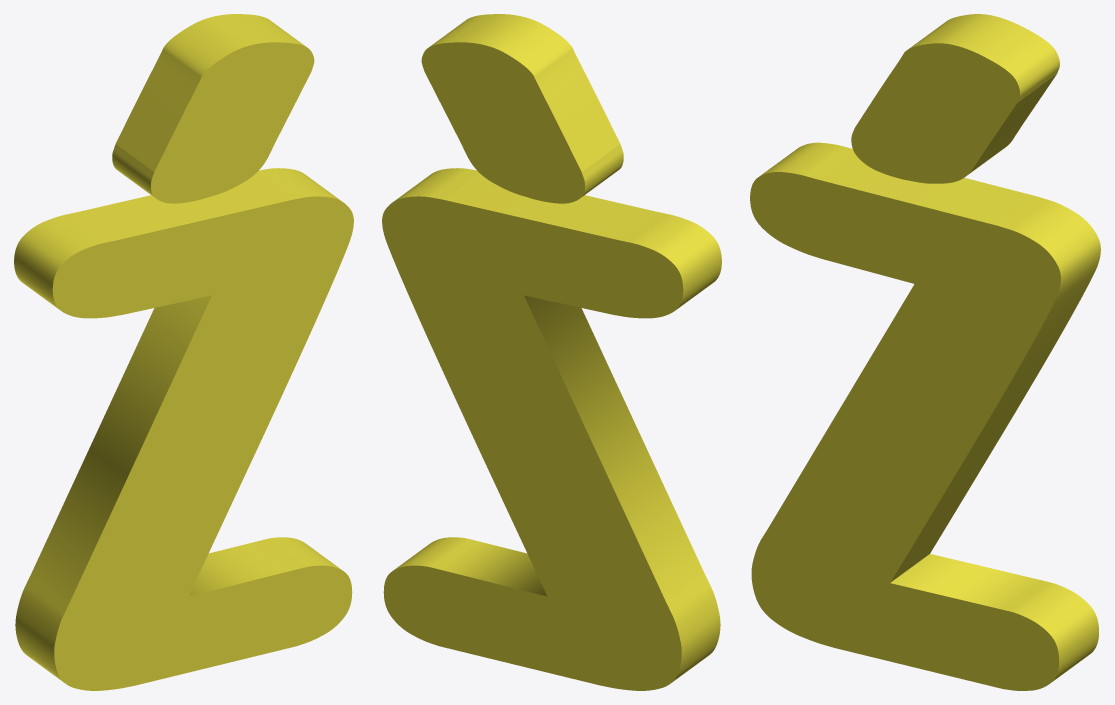
3 views of the same model, side by side, from view 1: azimuth 30°, elevation 25°; view 2: azimuth 150°, elevation 25°; view 3: azimuth 330°, elevation 25° (orthographic). The views are drawn at different scales.
Parts seen in each view (by area): view 1: Text.002; view 2: Text.002; view 3: Text.002.
Part boxes in pixels (x1,y1,x2,y2): Text.002: (14,14,353,690); Text.002: (382,14,721,690); Text.002: (750,14,1100,690).
Bounding box in the file's own units: 215 × 418 × 47.91.
